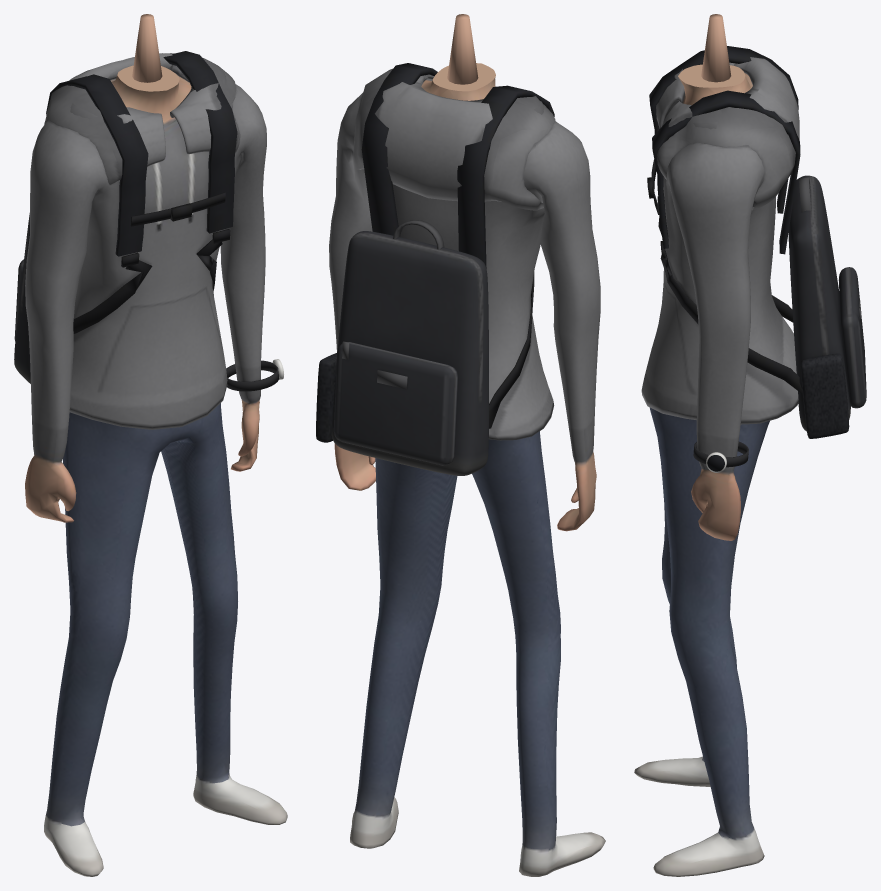
File: PH_NPC__StudentMan_Body.fbx
The picture shows the model from 3 angles, left to right: view 1: azimuth 30°, elevation 25°; view 2: azimuth 150°, elevation 25°; view 3: azimuth 270°, elevation 25°; orthographic projection. The views are drawn at different scales.
Parts seen in each view (by area): view 1: PH_NPC__StudentMan_Body; view 2: PH_NPC__StudentMan_Body; view 3: PH_NPC__StudentMan_Body.
Boxes of the visible parts, x1=… form: PH_NPC__StudentMan_Body: x1=14, y1=14, x2=287, y2=876; PH_NPC__StudentMan_Body: x1=316, y1=14, x2=605, y2=876; PH_NPC__StudentMan_Body: x1=634, y1=14, x2=866, y2=876.
Bounding box in the file's own units: 0.5217 × 1.58 × 0.4132.
